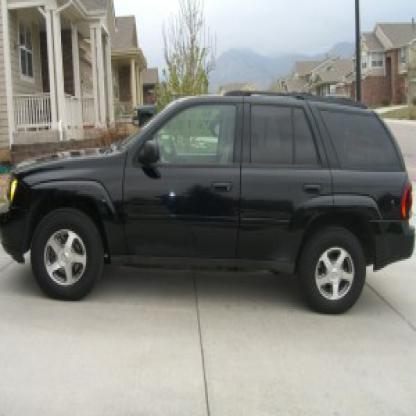Vehicle: (1, 92, 414, 320)
